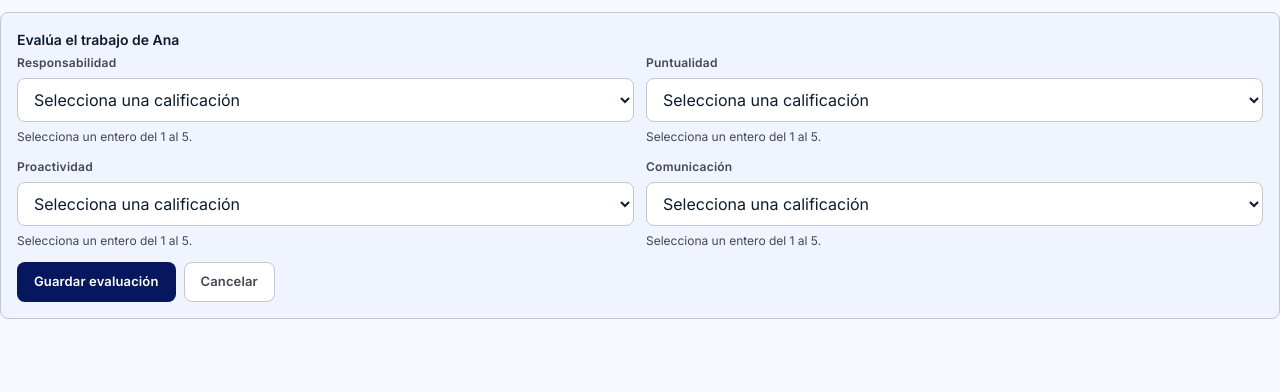
it: evaluación de asistentes › valida que los cuatro criterios sean enteros entre 1 y 5
What coordinates should you click on to do the following:
click the button "Guardar evaluación"
I would click on:
 (96, 282)
Its box is [17, 262, 176, 302].
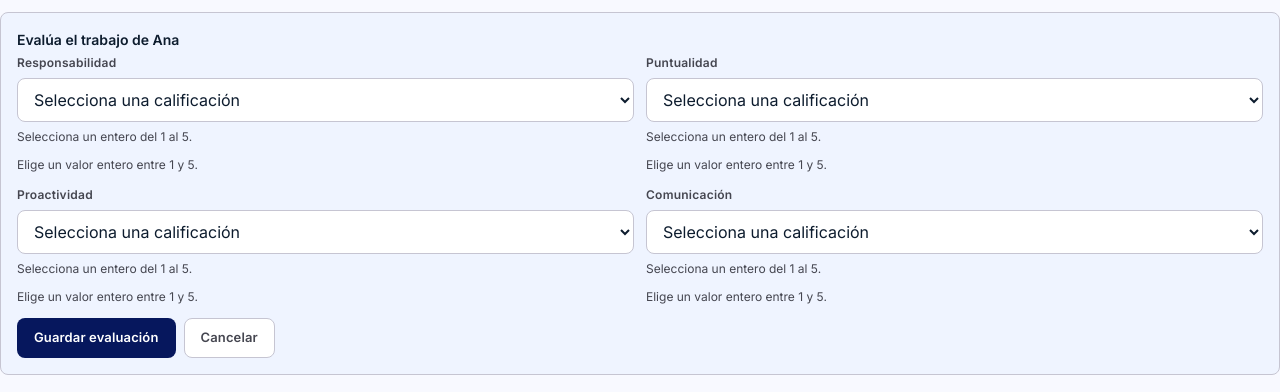
Now the text "Elige un valor entero entre 1 y 5." is shown 4 times, box [17, 157, 198, 172]; [646, 157, 827, 172]; [17, 289, 198, 304]; [646, 289, 827, 304]
